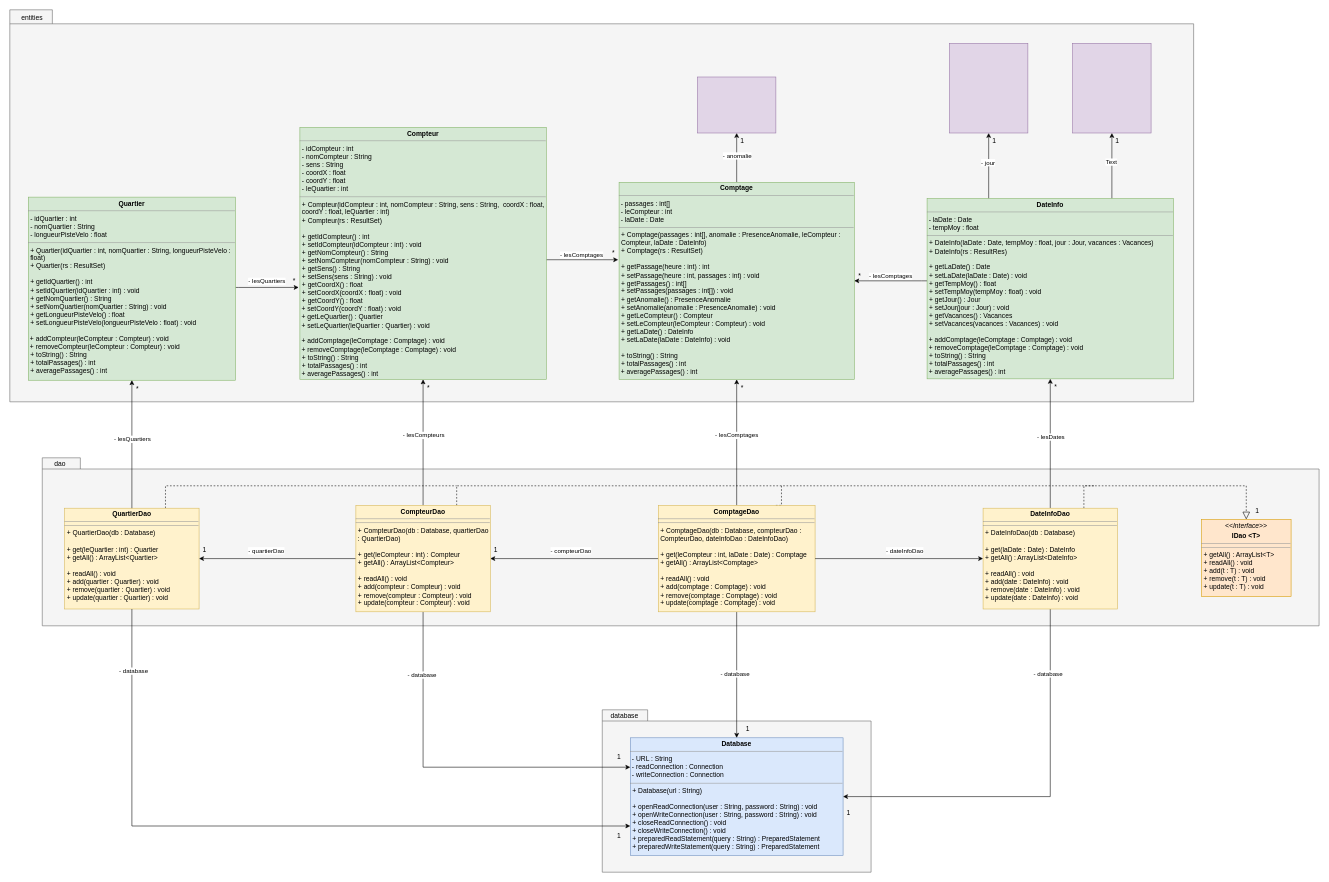
Image size: 1329x882. Some labels were removed from this diagram. Here are the shapes that lost their labels. From the top down, the box of each, then its label:
(697, 76, 776, 133): <<Enumeration>> PresenceAnomalie Faible Forte Nulle
(949, 43, 1028, 133): <<Enumeration>> Jour Lundi Mardi Mercredi Jeudi Vendredi Samedi Dimanche
(1072, 43, 1151, 133): <<Enumeration>> Vacances Noel Ascension Hiver Ete Toussaint Printemps Nulle
